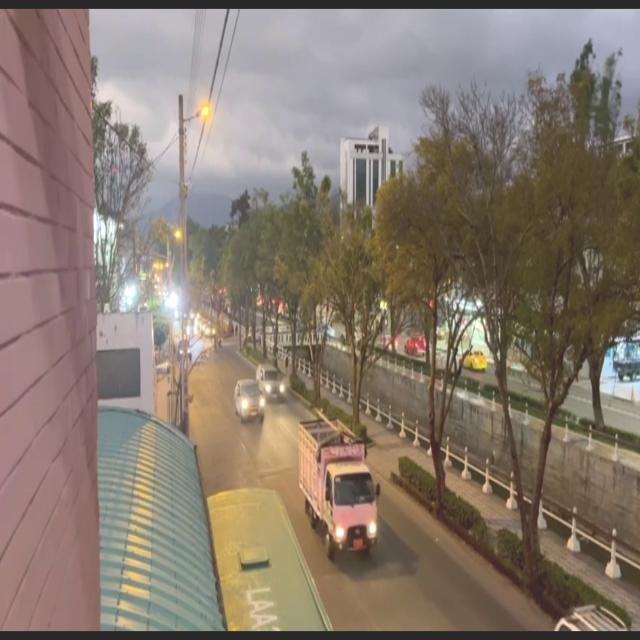CMT: (259, 364, 285, 400)
SUV: (236, 381, 263, 422)
TRUCK: (298, 422, 378, 554)
